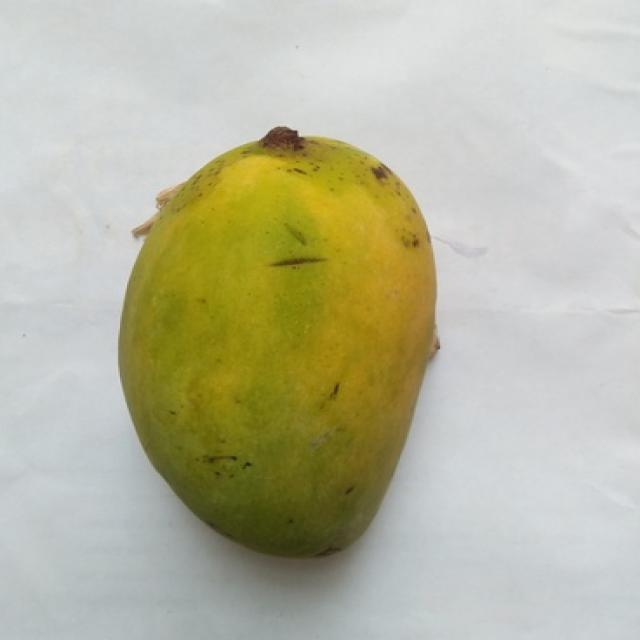Mango: (118, 128, 435, 556)
